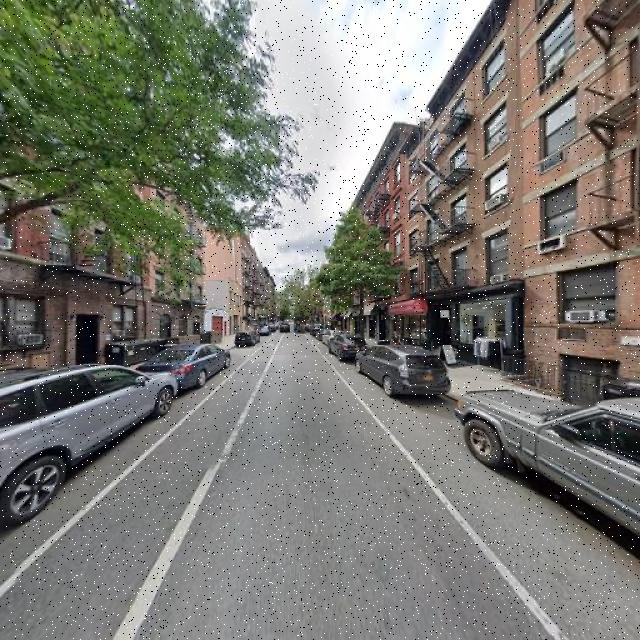Building: (1, 1, 145, 388), (522, 1, 640, 417), (405, 1, 517, 382), (149, 58, 205, 352), (352, 120, 401, 350)
